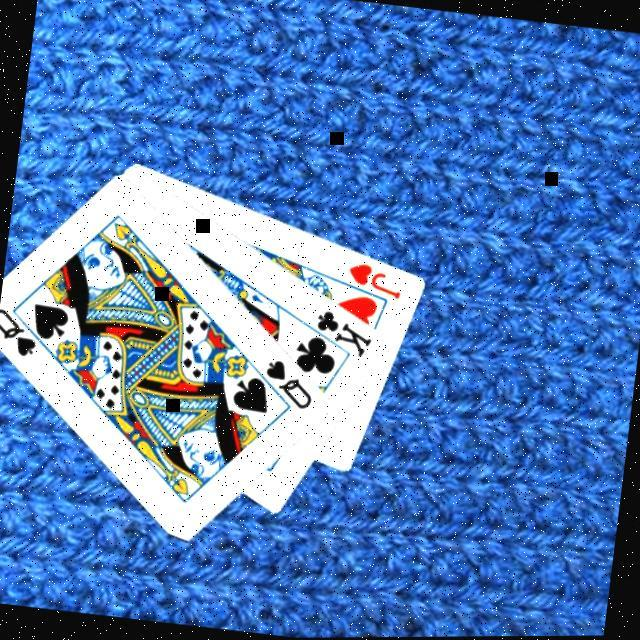JH: (344, 256, 409, 302)
KC: (300, 302, 380, 361)
QS: (260, 354, 322, 412), (0, 302, 45, 359)
